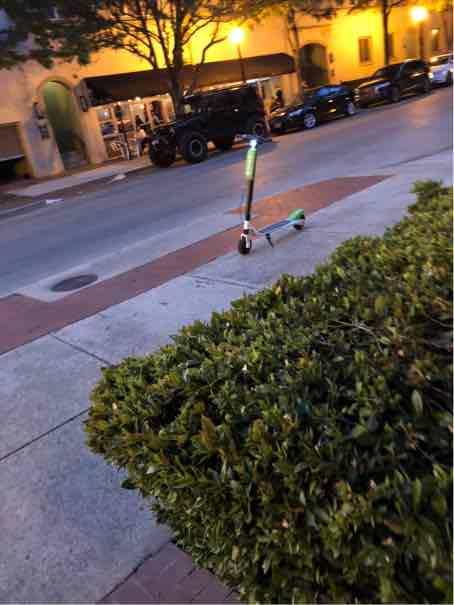scooter: (224, 106, 314, 260)
